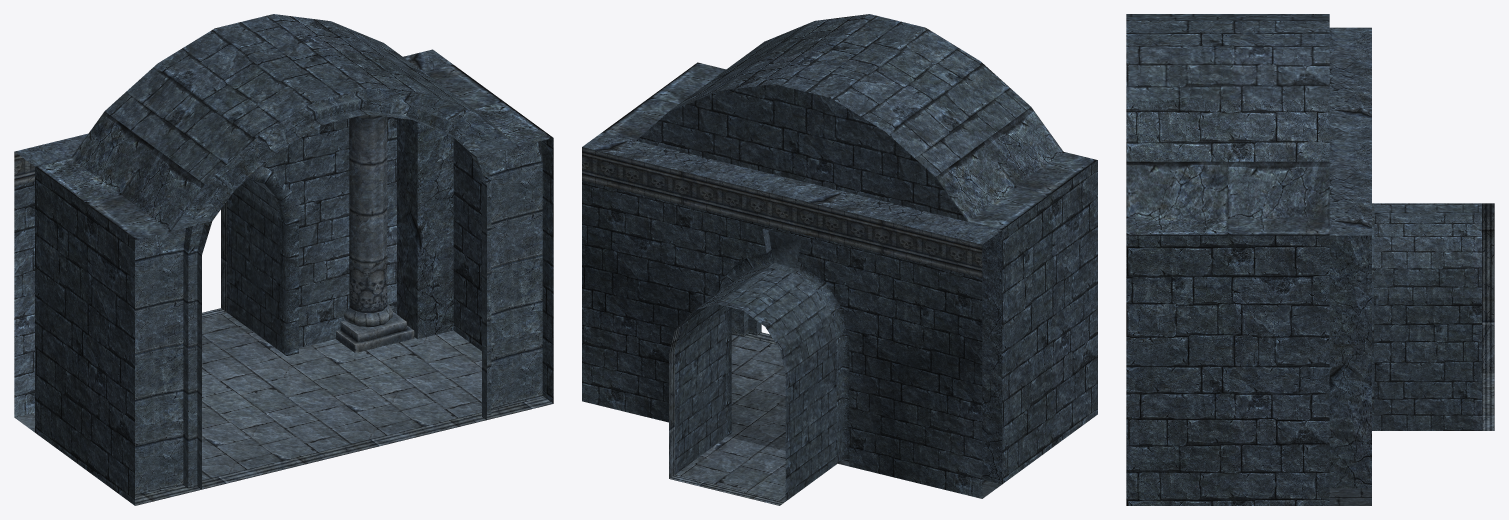
Rendered from wall_doorPart.FBX.
3 views of the same model, side by side, from view 1: azimuth 30°, elevation 25°; view 2: azimuth 150°, elevation 25°; view 3: azimuth 270°, elevation 25° (orthographic). The views are drawn at different scales.
Visible parts, largest first — view 1: Wall_door_part2; view 2: Wall_door_part2; view 3: Wall_door_part2.
Part boxes in pixels (x1=…): Wall_door_part2: x1=14, y1=14, x2=553, y2=505; Wall_door_part2: x1=582, y1=14, x2=1097, y2=505; Wall_door_part2: x1=1126, y1=14, x2=1494, y2=505.
Bounding box in the file's own units: 91.86 × 75.6 × 68.89.
